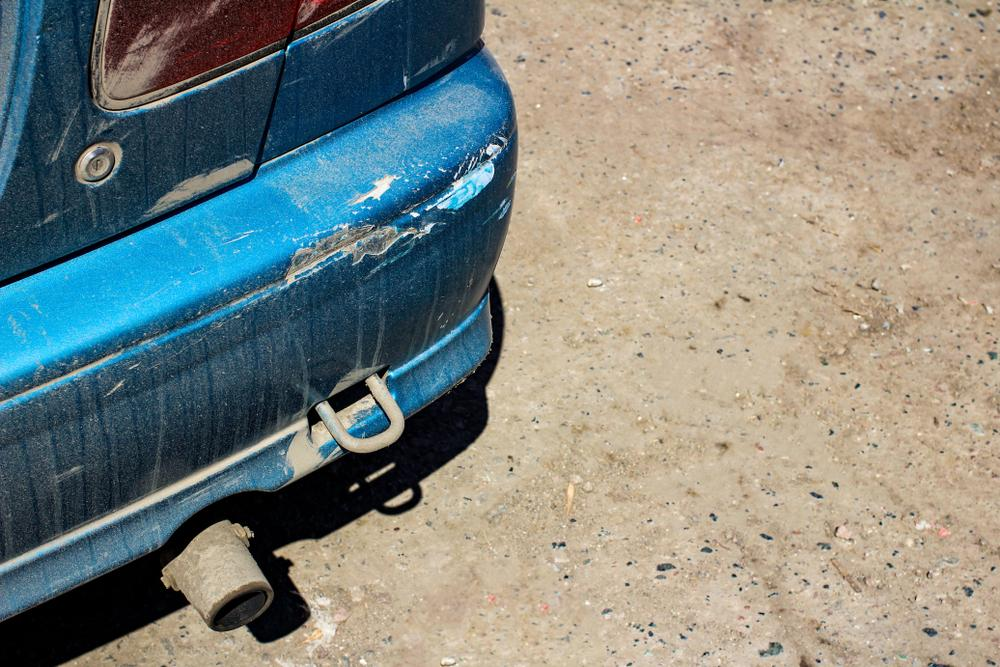scratch: (272, 137, 504, 289)
